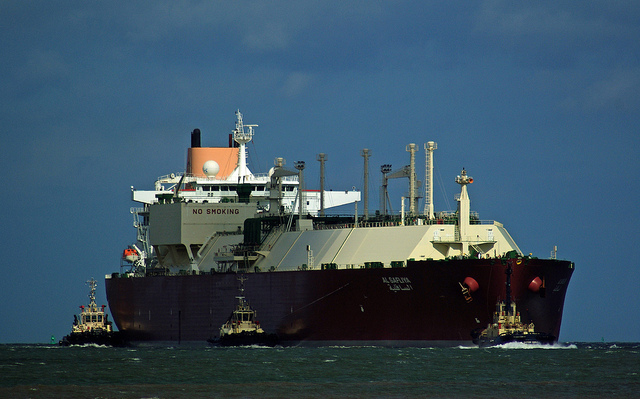LNG_ship: (102, 107, 569, 345)
tug_boat: (471, 277, 542, 353), (55, 272, 118, 353), (207, 278, 269, 346)
